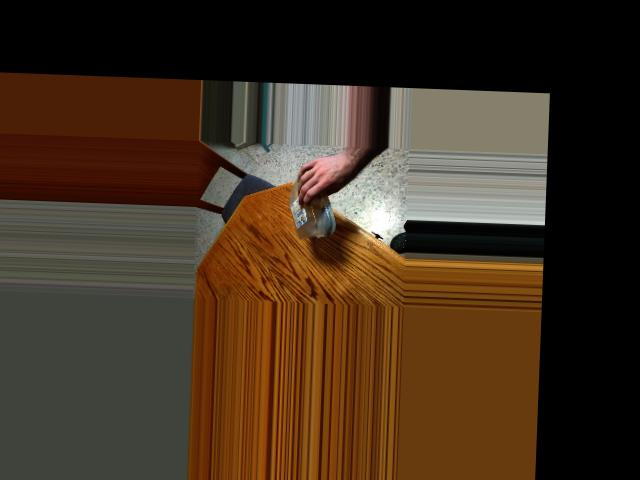cheese: (290, 165, 339, 220)
